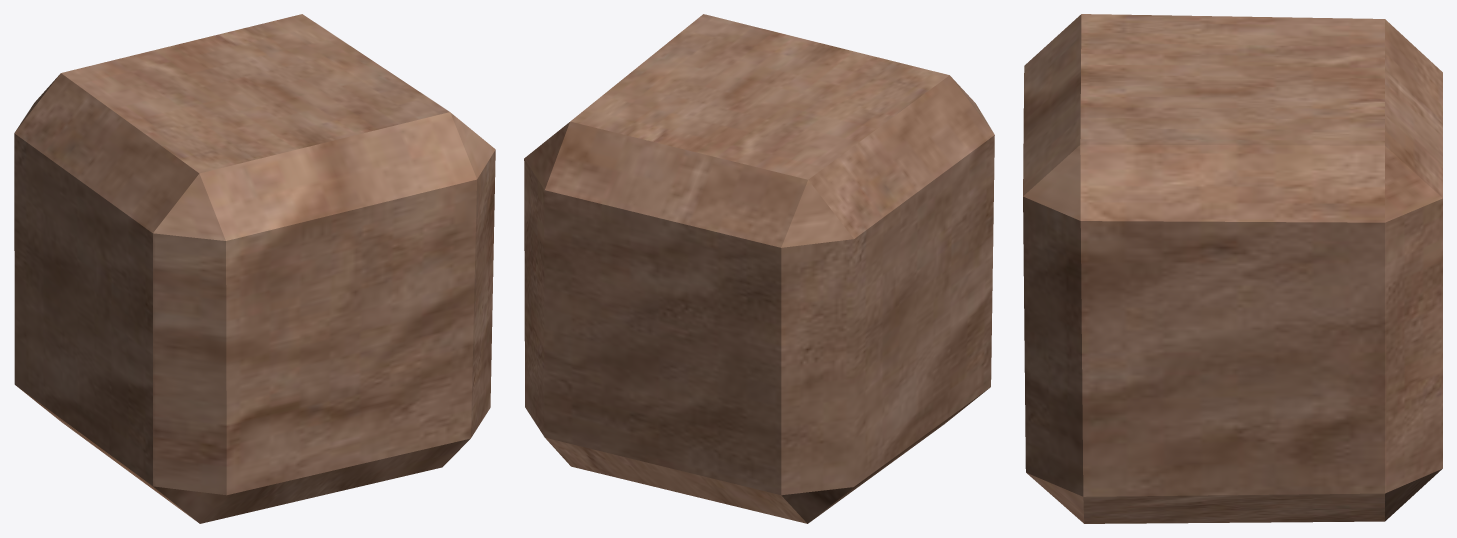
The model's file is tond.gltf.
3 renders of one model, left to right at view 1: azimuth 30°, elevation 25°; view 2: azimuth 150°, elevation 25°; view 3: azimuth 270°, elevation 25°, orthographic. The views are drawn at different scales.
Visible parts, largest first — view 1: Cube; view 2: Cube; view 3: Cube.
Part boxes in pixels (box(x1,y1,x2,y2)): Cube: box(14, 14, 495, 523); Cube: box(524, 14, 994, 523); Cube: box(1023, 14, 1442, 523).
Size of the model in its own units: 2.05 by 2.04 by 2.03.
Materials: 1 (1 with a texture image).
